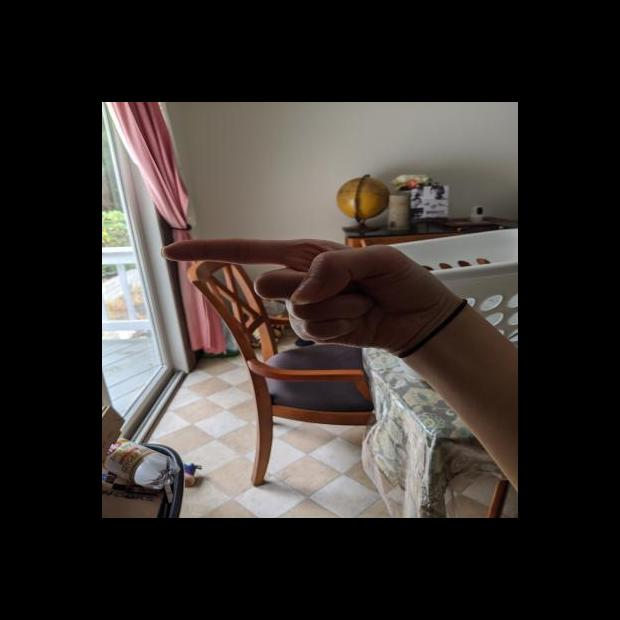F: (156, 235, 455, 352)
